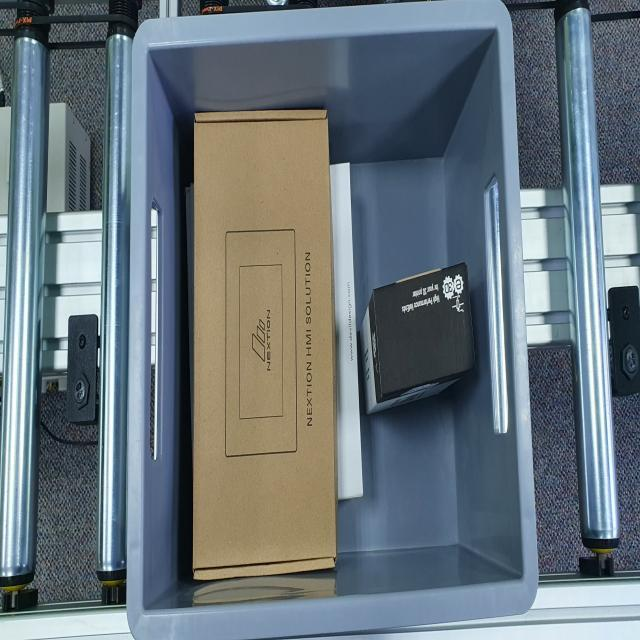box: (194, 111, 337, 573), (373, 262, 476, 401)
